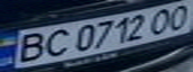0: (72, 23, 96, 53)
1: (112, 15, 136, 45)
2: (124, 11, 154, 40)
7: (90, 19, 118, 49)
B: (6, 29, 54, 64)
C: (36, 27, 72, 58)
O: (160, 1, 193, 30), (145, 6, 178, 35)
